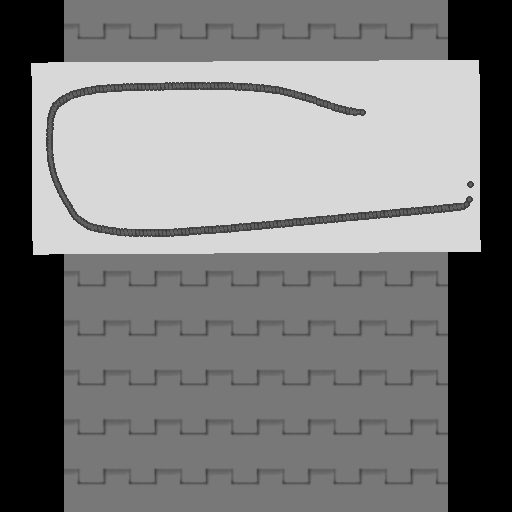Defect: (364, 105, 471, 128)
